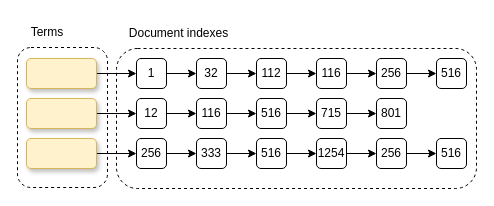
The diagram is 494 pixels wide and 206 high, and some of its shapes have lost their labels. Here are the shapes that lost their labels. From the top down, the centre of each, then its label:
pixel 62 75: cat
pixel 62 115: dog
pixel 62 155: cow
